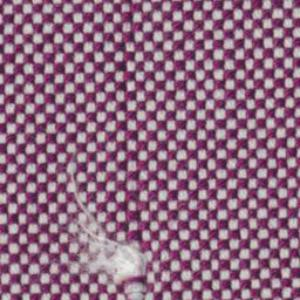fault: (47, 159, 157, 298)
